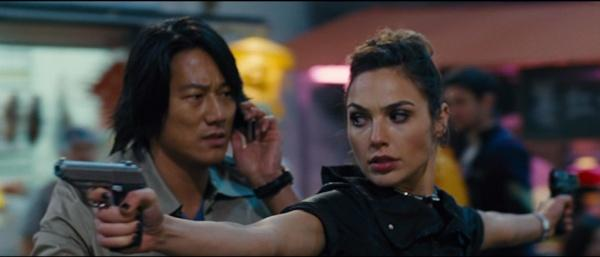Gun: (54, 160, 149, 206), (547, 170, 582, 199)
